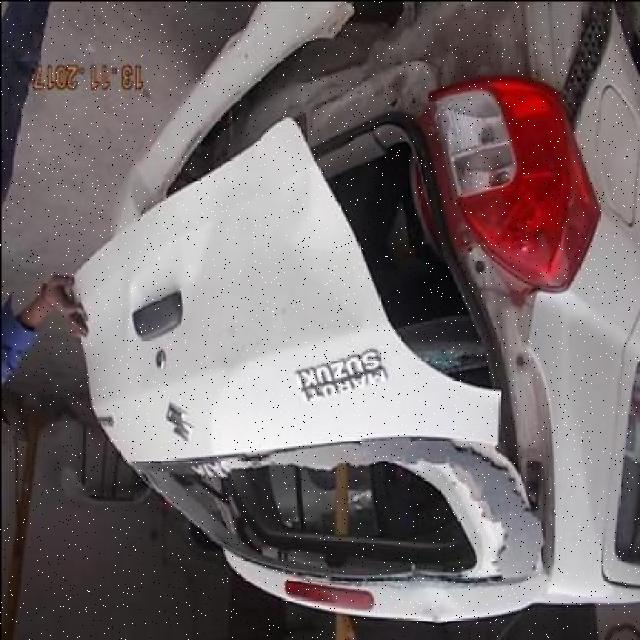damage: (115, 0, 534, 217), (133, 436, 528, 587), (527, 0, 610, 132), (408, 580, 451, 625)
